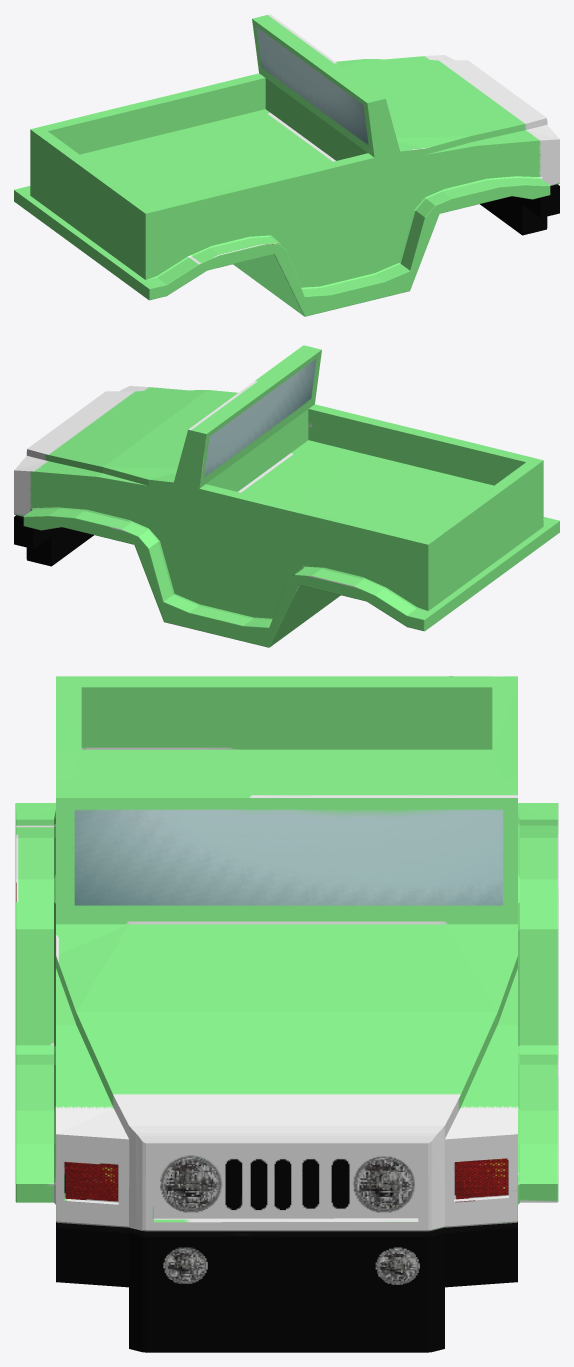
File: car.dae
3 views of the same model, one above another, from view 1: azimuth 30°, elevation 25°; view 2: azimuth 150°, elevation 25°; view 3: azimuth 270°, elevation 25° (orthographic). The views are drawn at different scales.
Visible parts, largest first — view 1: Cube.001; view 2: Cube.001; view 3: Cube.001.
Boxes of the visible parts, left/top/right/bottom form: Cube.001: left=14, top=14, right=559, bottom=316; Cube.001: left=14, top=345, right=559, bottom=647; Cube.001: left=15, top=676, right=558, bottom=1352.
Size of the model in its own units: 1.72 by 0.9402 by 0.7211.
2 materials, 2 textured.
